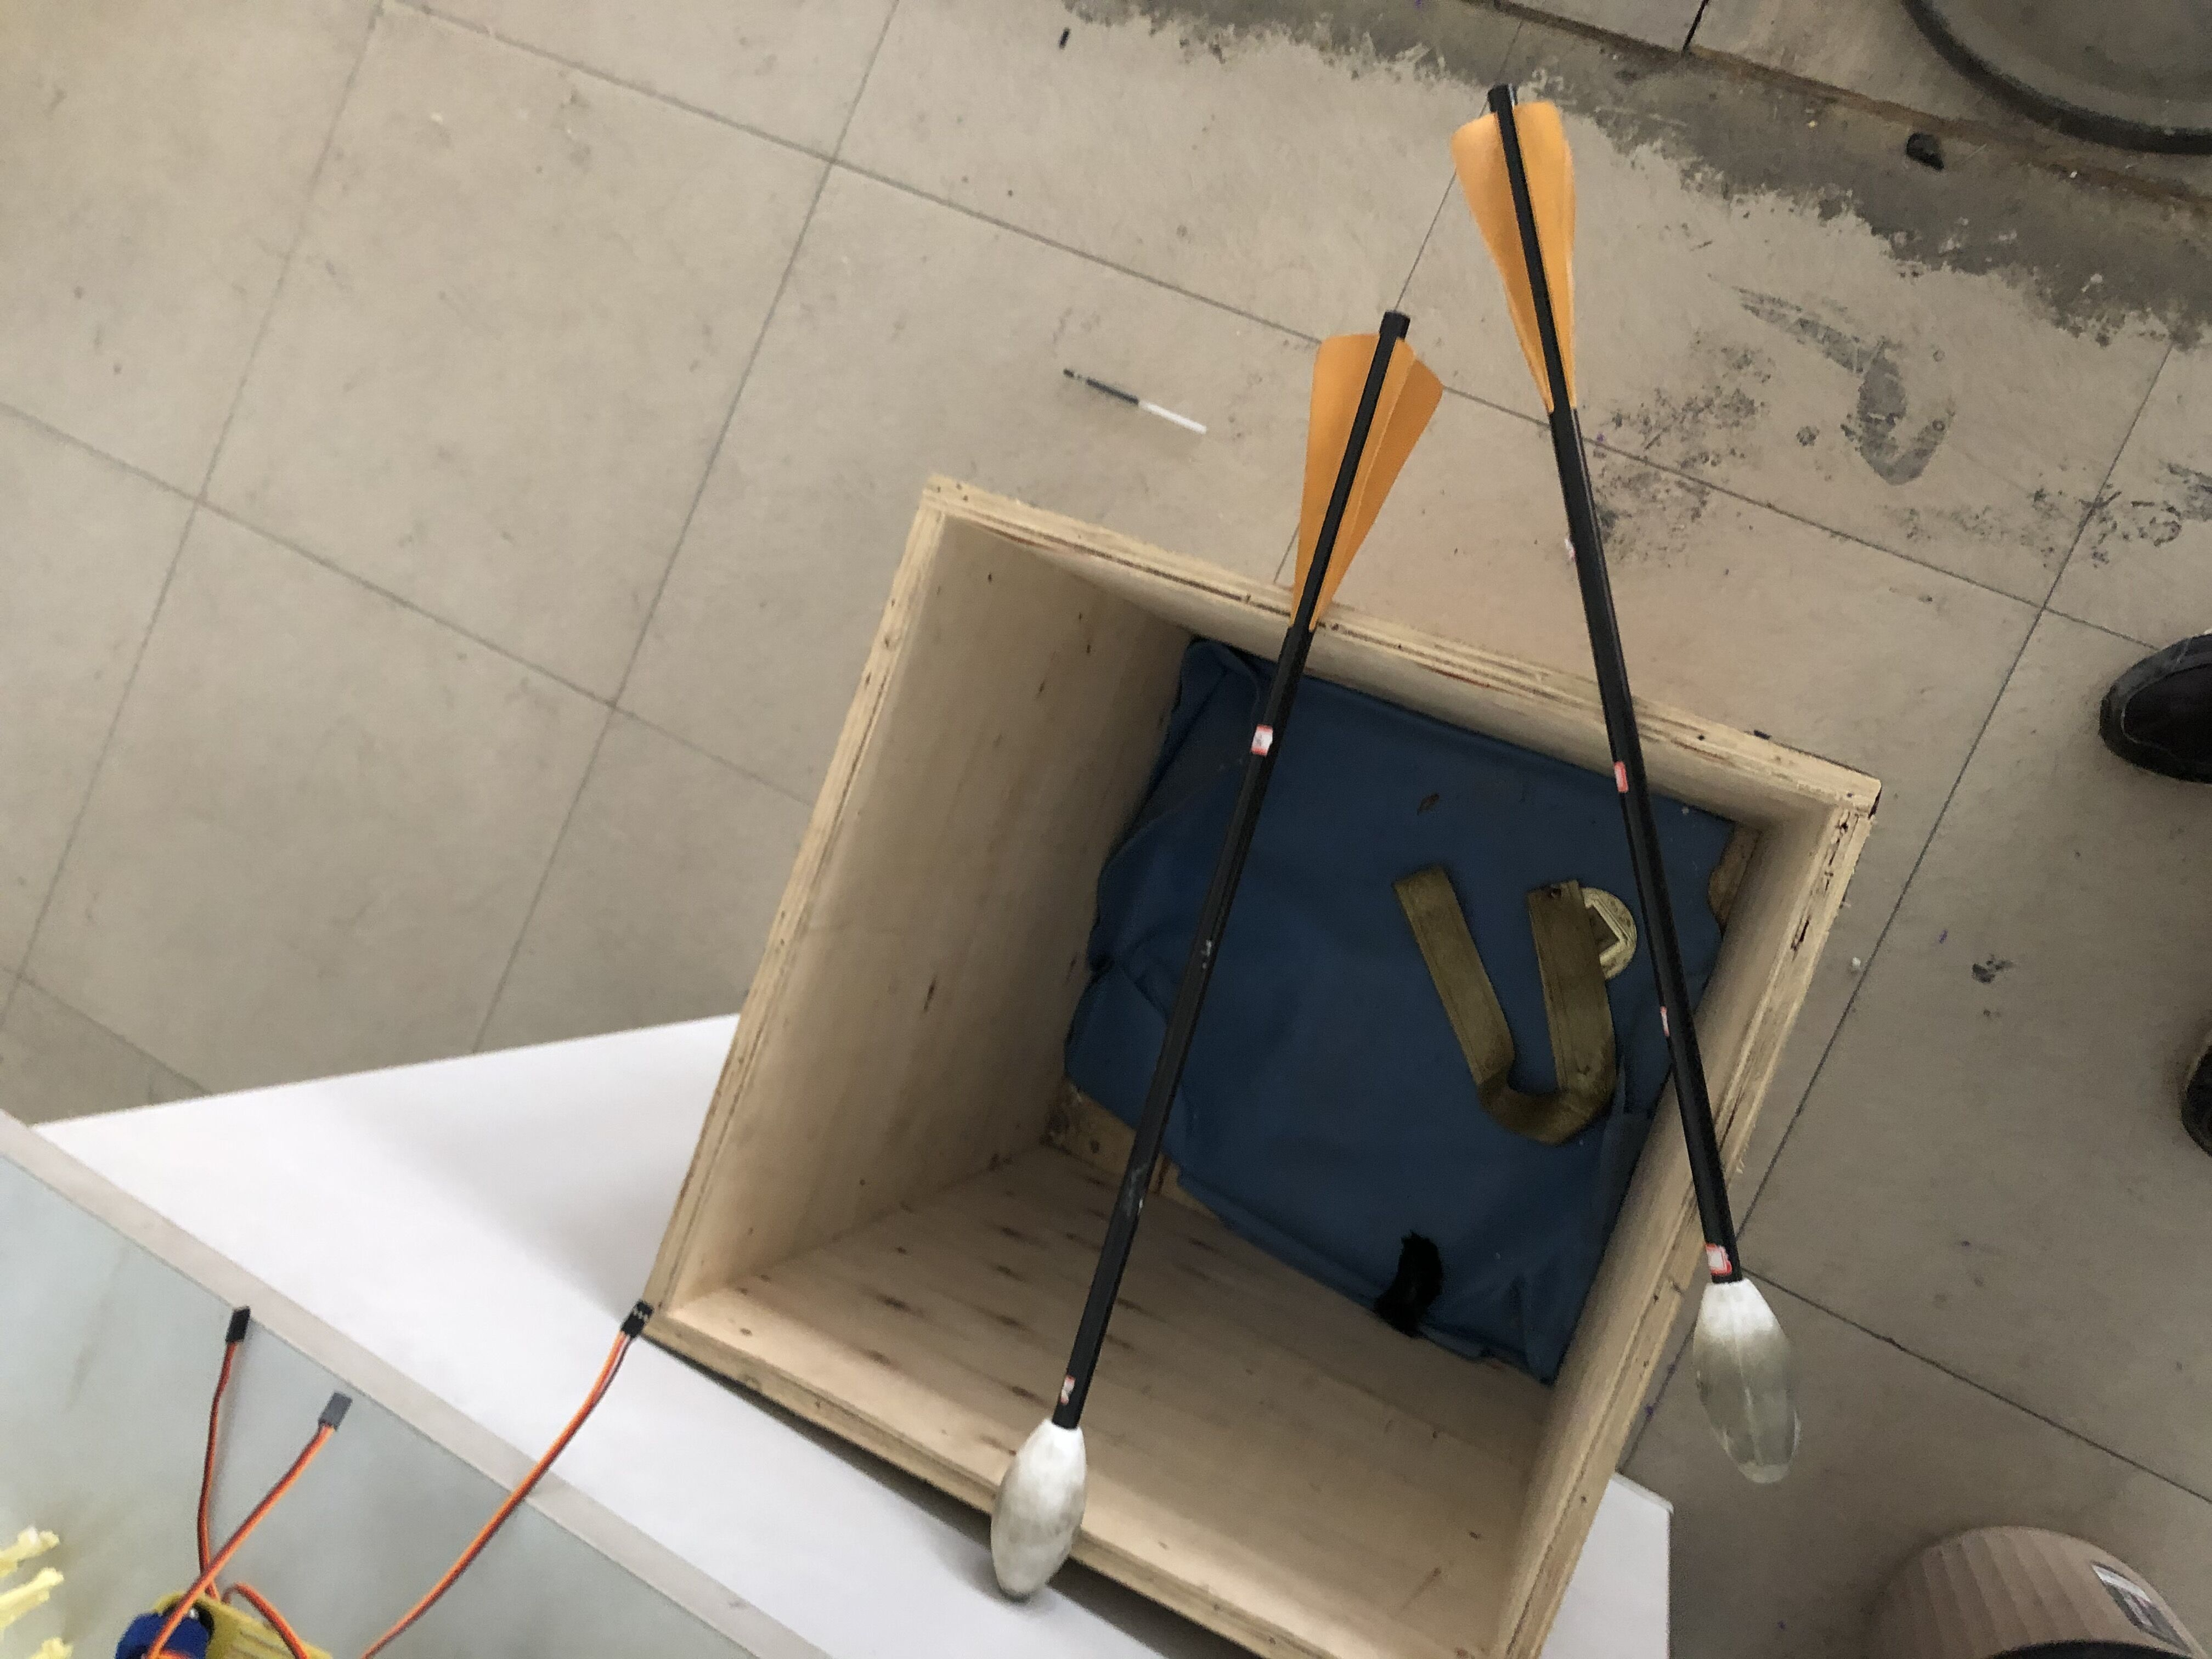arrow: (984, 310, 1447, 1598), (1449, 84, 1804, 1481)
arrowFront: (1689, 1277, 1808, 1478), (988, 1413, 1090, 1600)
